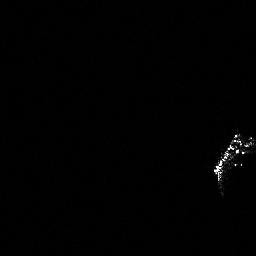ship: (211, 126, 255, 197)
